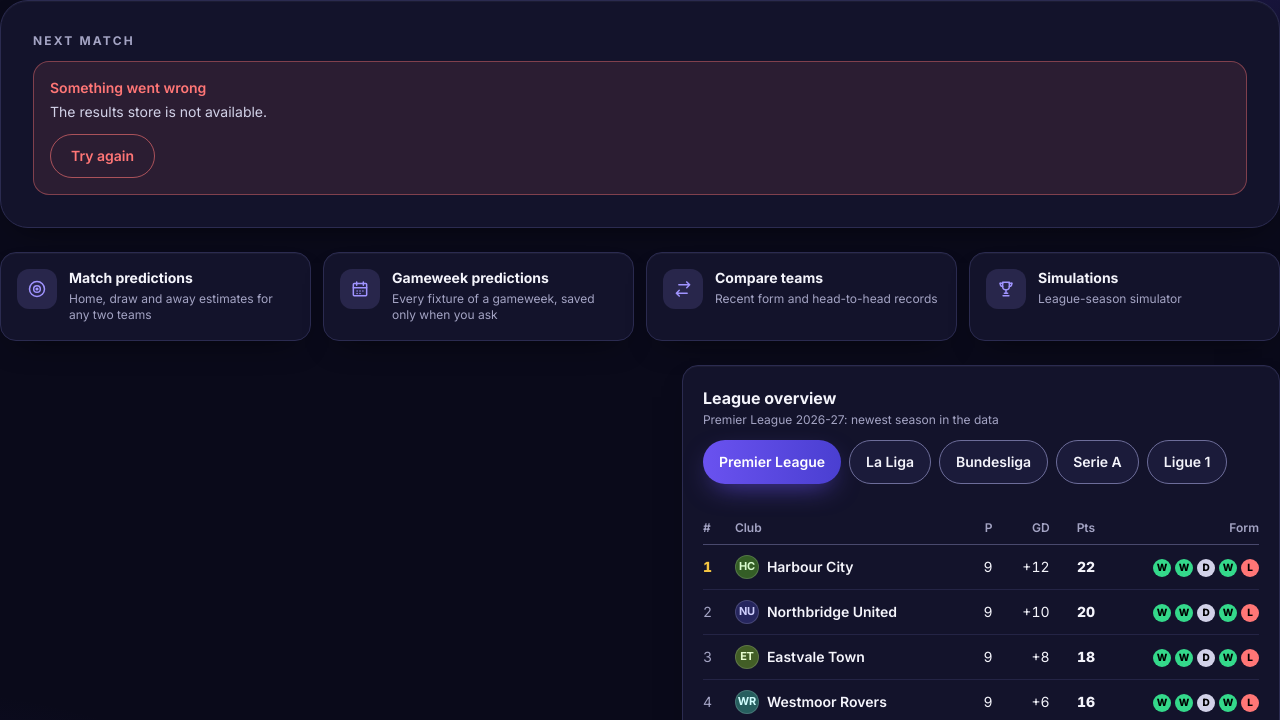
it: Home: failures stay where they happen › shows the backend's message in the banner, keeps the rest of the page, and fetches again on request
Expected: the message shows "The results store is not available.", left=50, top=103, right=267, bottom=120
Expected: the element named "Quick access" is shown, left=0, top=252, right=1279, bottom=340
Click the button "Try again".
click(103, 156)  # box left=50, top=134, right=155, bottom=178
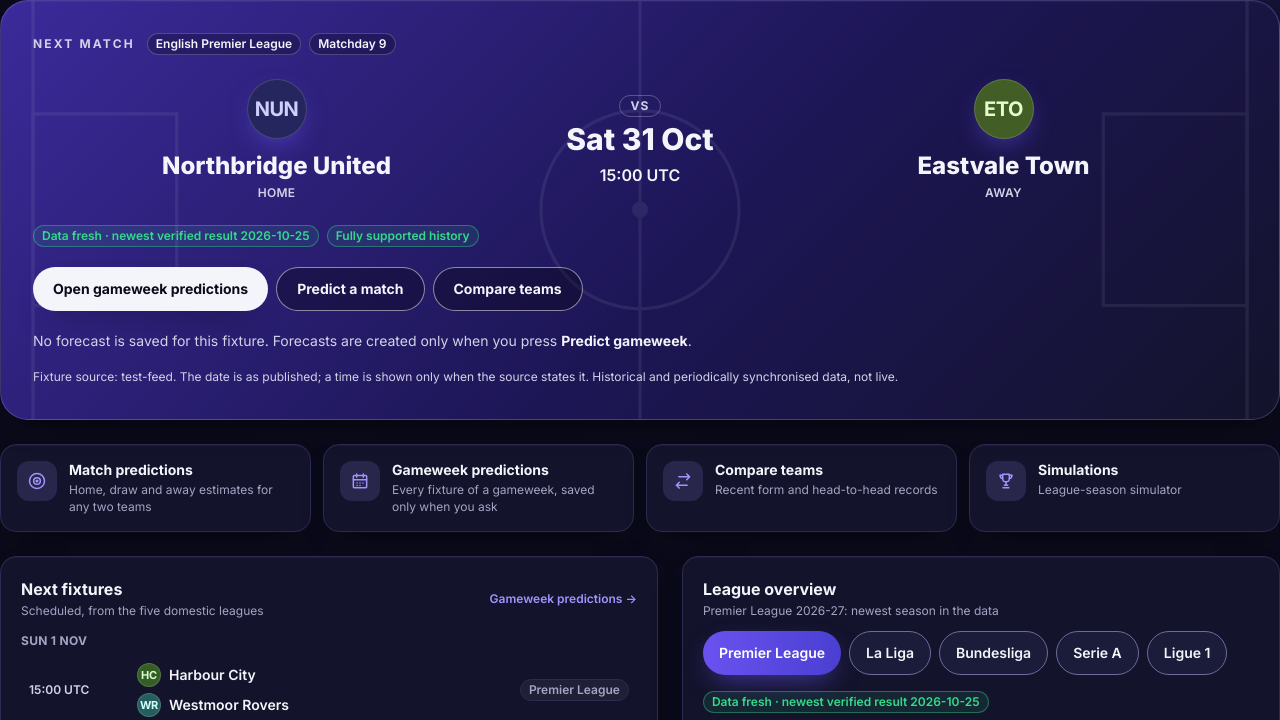
Result: the element "Next match" is shown at left=0, top=0, right=1279, bottom=420
Result: the message "Something went wrong The results store is not available. Try again" is gone
